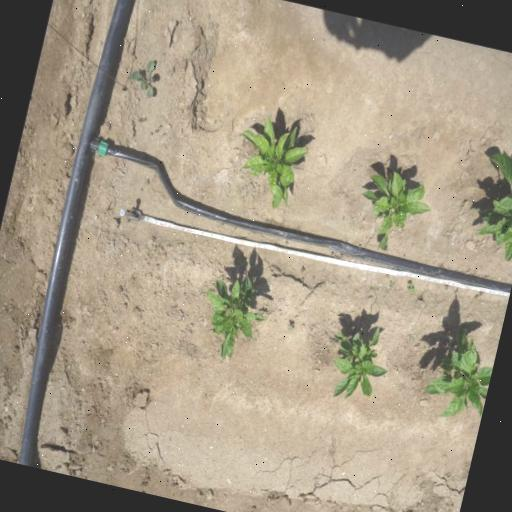plant: (412, 316, 502, 430), (222, 108, 316, 216), (189, 262, 277, 368), (348, 164, 438, 260), (318, 314, 397, 410), (461, 144, 512, 267)
weed: (122, 53, 163, 99), (404, 280, 416, 295), (285, 320, 295, 334), (386, 279, 394, 289), (344, 273, 352, 282), (137, 116, 147, 123), (444, 284, 450, 291), (153, 127, 159, 134), (264, 216, 270, 222), (299, 266, 305, 272), (144, 178, 150, 184)
